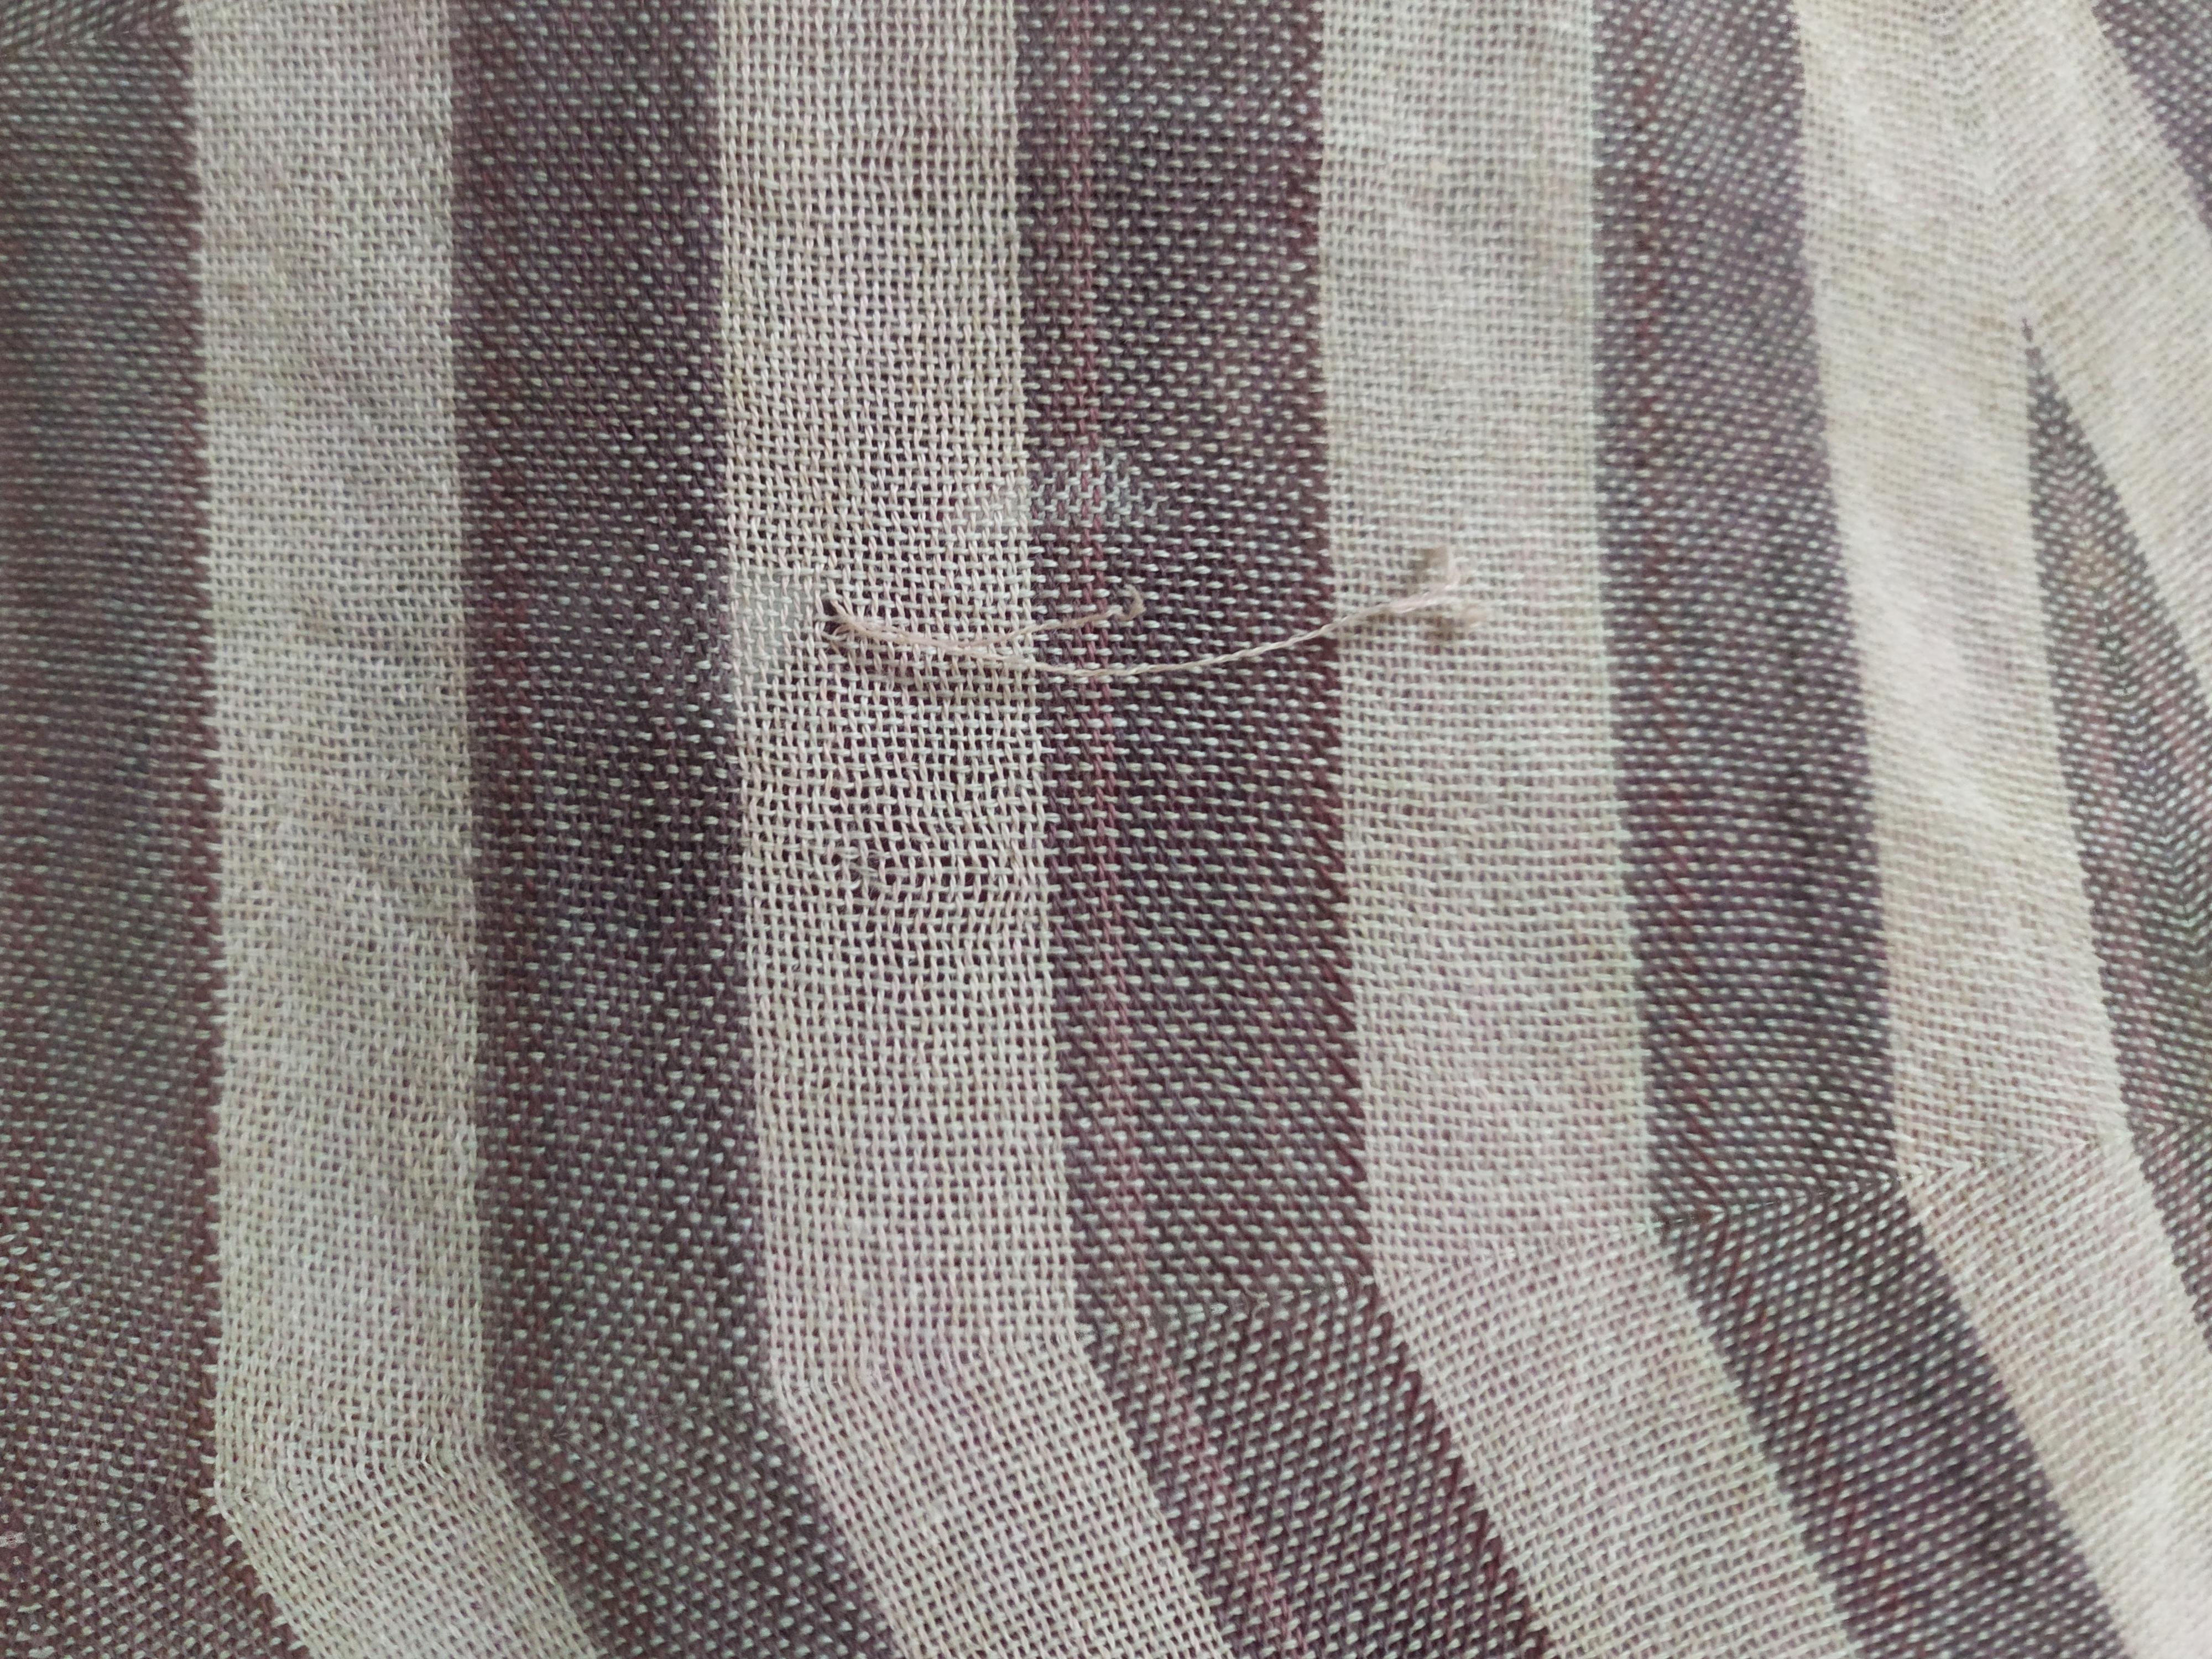snag: (763, 516, 1573, 749)
